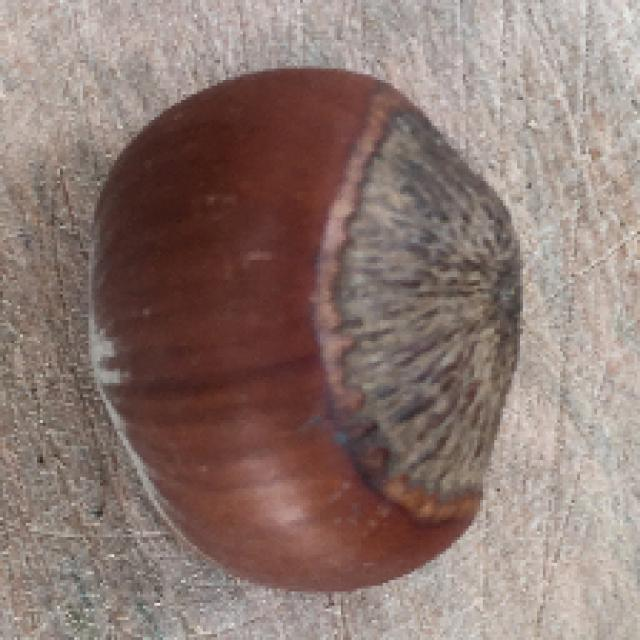damagedHazelnut: (85, 57, 518, 598)
